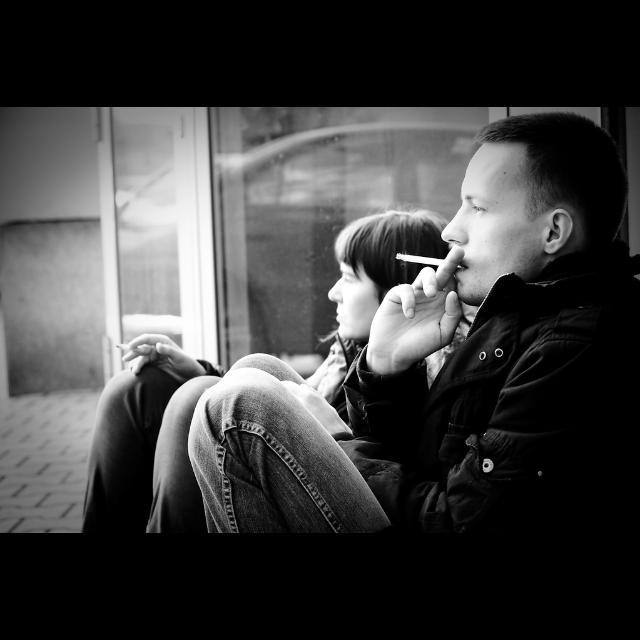rokok: (392, 250, 448, 270), (114, 339, 152, 357)
